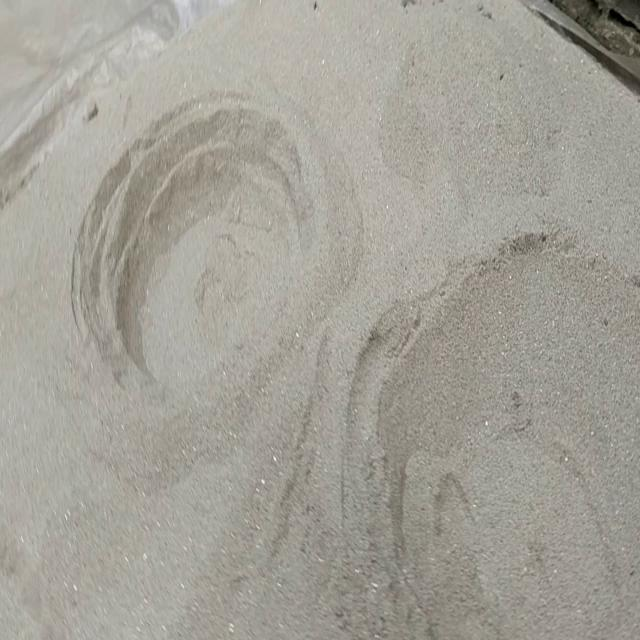C20: (368, 236, 640, 638), (91, 105, 303, 387)
